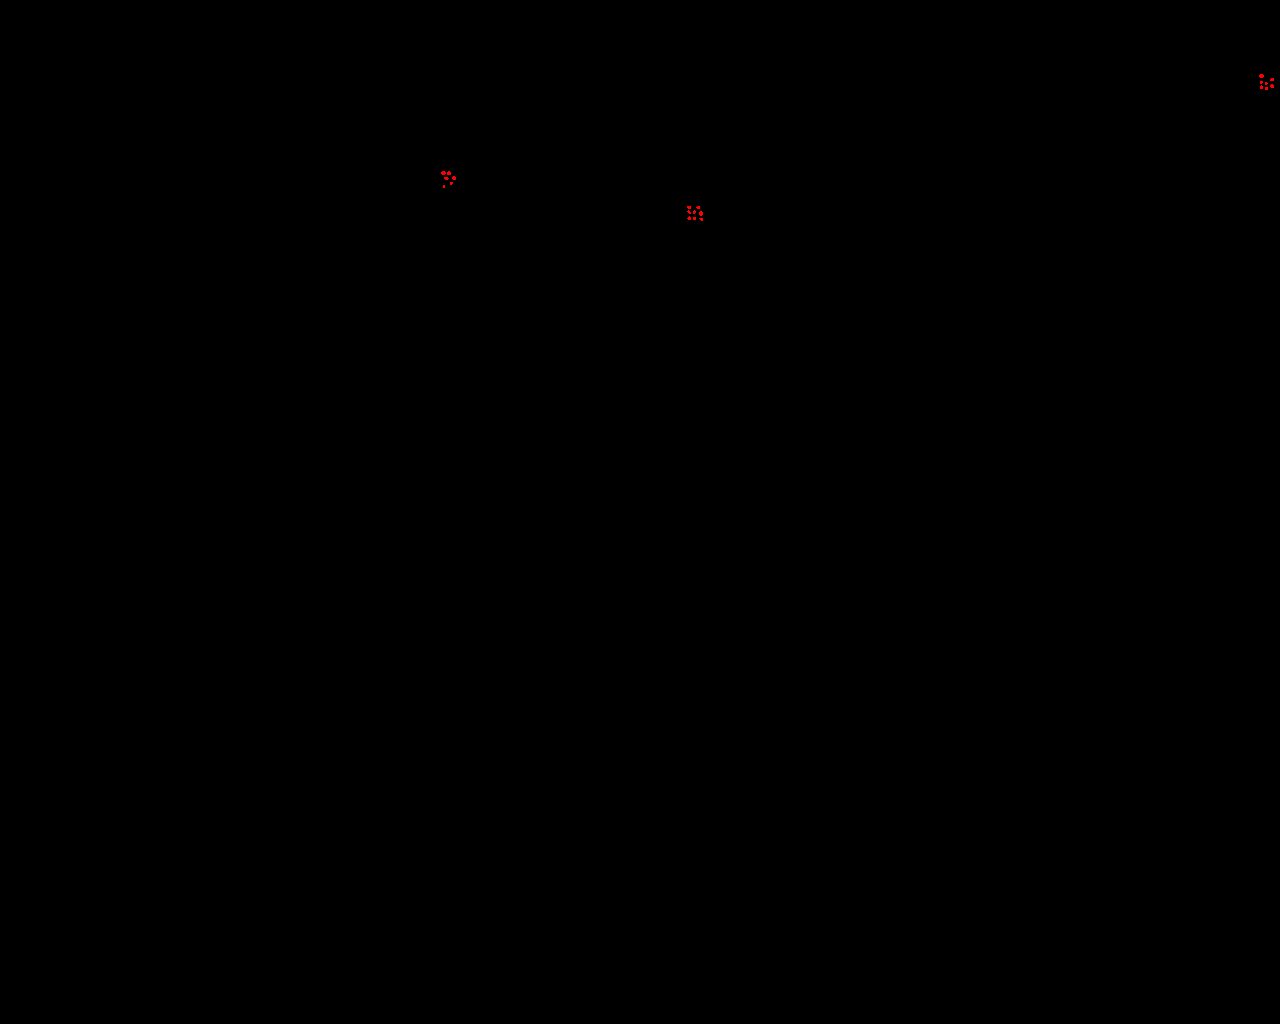Target: (1259, 74, 1264, 78), (699, 211, 703, 216), (1270, 84, 1274, 88), (686, 210, 691, 214), (686, 216, 691, 220), (441, 171, 446, 174), (444, 177, 449, 180), (1270, 78, 1274, 82), (1260, 85, 1263, 89), (447, 171, 451, 174), (452, 176, 456, 180), (686, 206, 691, 209), (696, 206, 700, 209), (693, 210, 696, 214), (699, 218, 703, 222), (1265, 82, 1269, 85), (1265, 87, 1269, 90), (450, 182, 453, 185), (693, 217, 696, 220), (1260, 82, 1263, 84), (443, 185, 445, 188)
